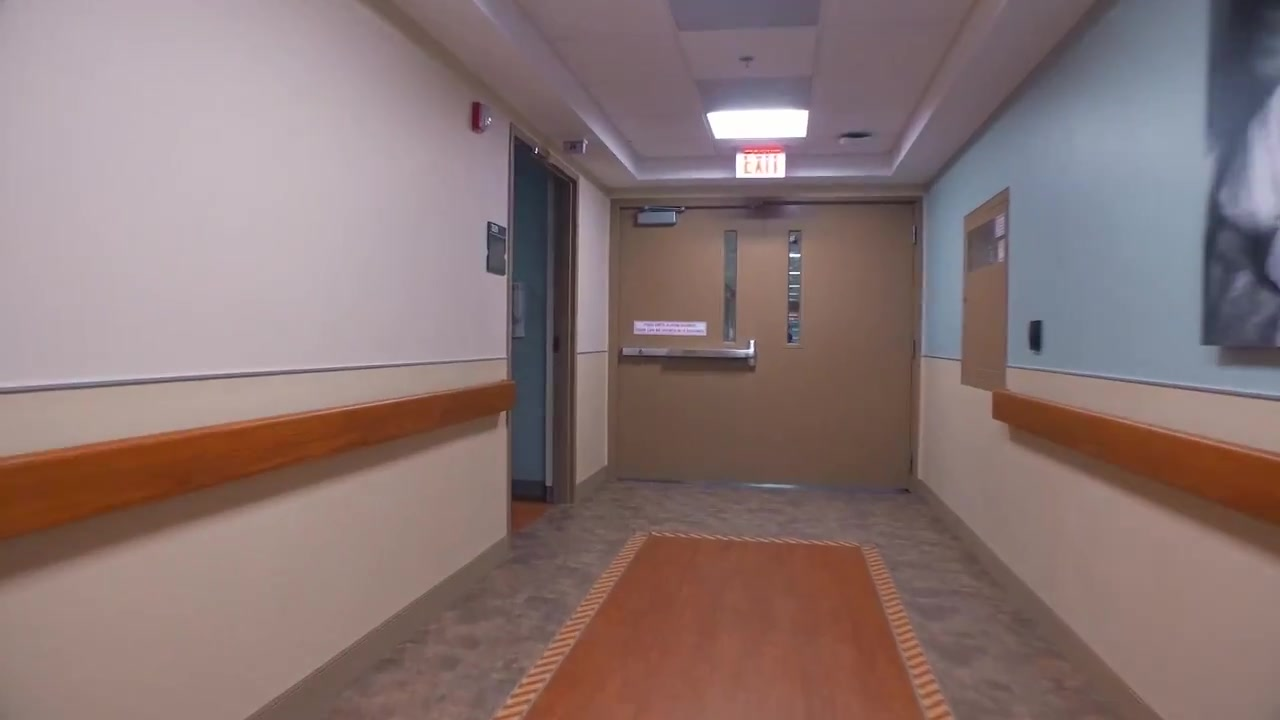hallway_assist_bar: (1, 379, 516, 539), (991, 390, 1280, 525)
push_latch: (623, 343, 760, 370)
